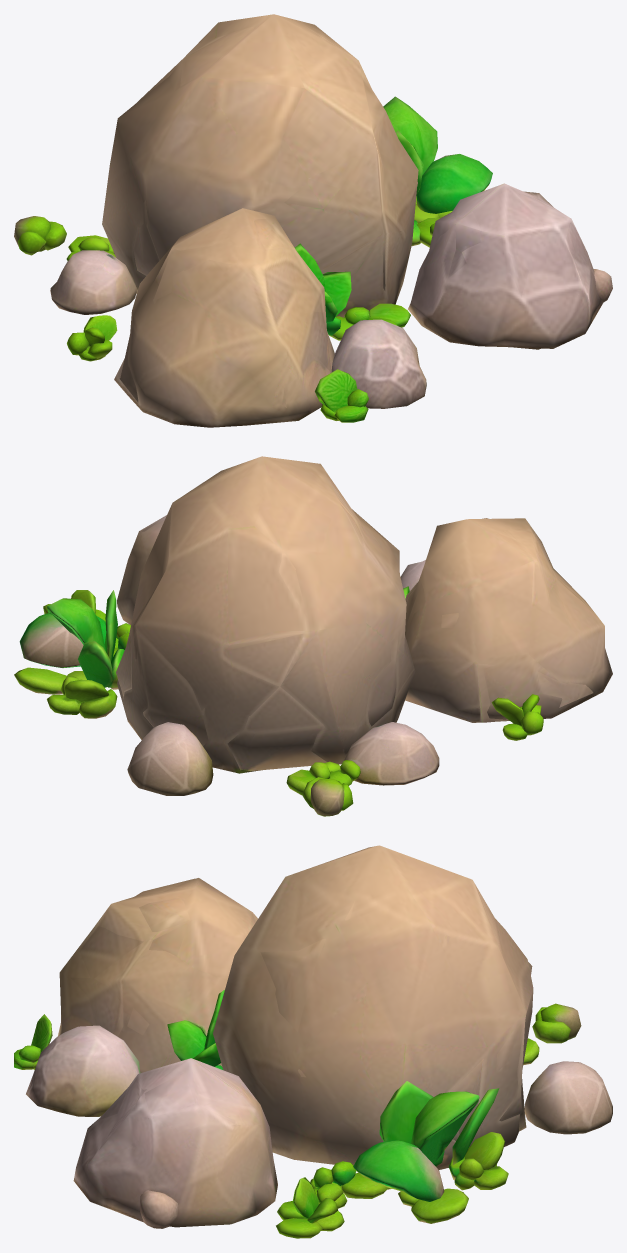
Rendered from r4c2_angular_rock_cluster.glb.
3 views of the same model, one above another, from view 1: azimuth 30°, elevation 25°; view 2: azimuth 150°, elevation 25°; view 3: azimuth 270°, elevation 25° (orthographic). The views are drawn at different scales.
Size of the model in its own units: 1 by 0.5039 by 1.
1 material, 1 textured.
